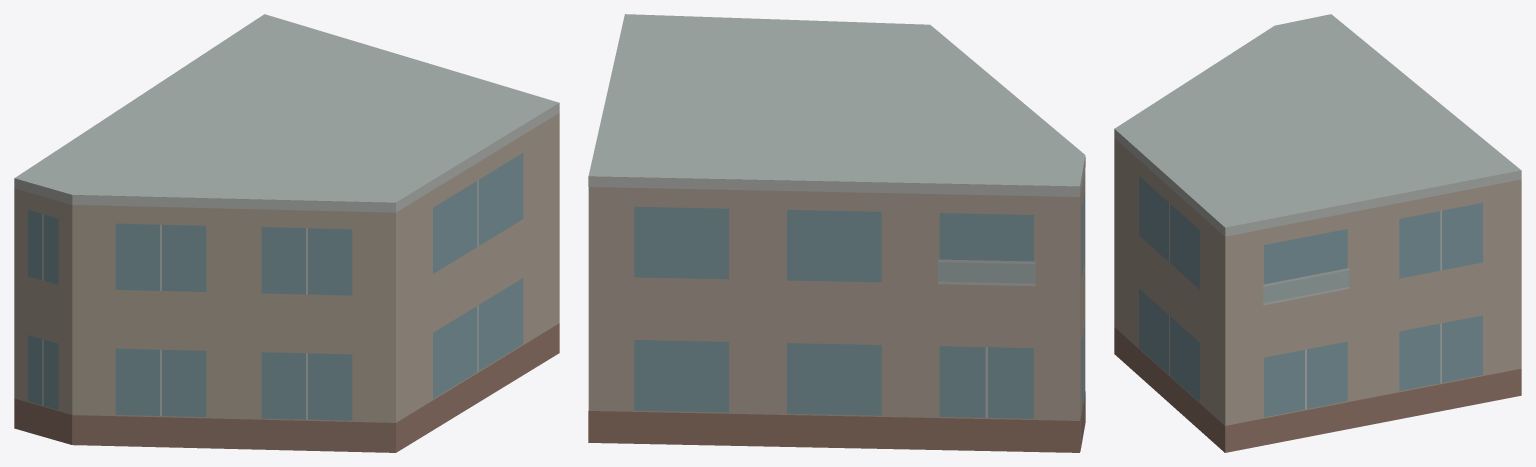
Rendered from survey-upis-32704777.glb.
The picture shows the model from 3 angles, left to right: view 1: azimuth 30°, elevation 25°; view 2: azimuth 150°, elevation 25°; view 3: azimuth 270°, elevation 25°; orthographic projection. The views are drawn at different scales.
Visible parts, largest first — view 1: survey-upis-32704777.tmp; view 2: survey-upis-32704777.tmp; view 3: survey-upis-32704777.tmp.
Part boxes in pixels (left/top/right/bottom): survey-upis-32704777.tmp: left=14, top=14, right=559, bottom=452; survey-upis-32704777.tmp: left=588, top=14, right=1085, bottom=452; survey-upis-32704777.tmp: left=1114, top=14, right=1521, bottom=452.
Size of the model in its own units: 12.42 by 6.1 by 10.
